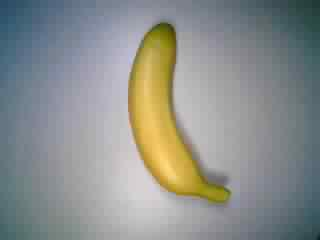banana: (123, 20, 235, 207)
